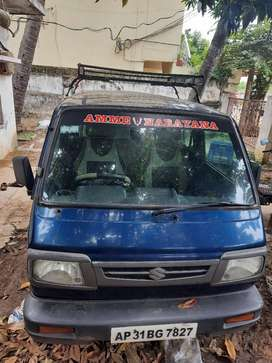AP31BG7827: (110, 322, 198, 344)
